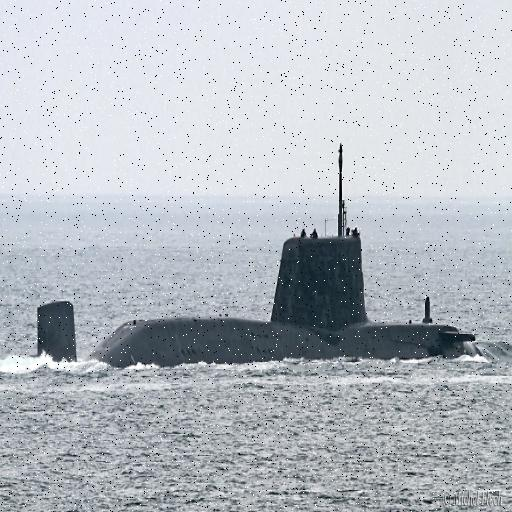submarine: (36, 142, 467, 361)
